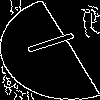I: (25, 25, 89, 56)
